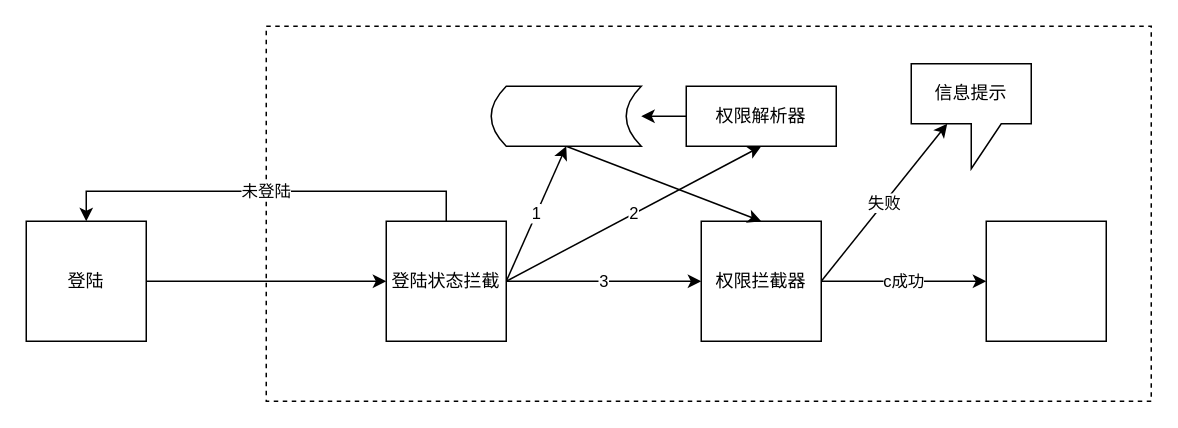
The diagram is 1178 pixels wide and 428 high, and some of its shapes have lost their labels. Each missing label, with the box of its shape:
控制器: (985, 220, 1106, 341)
用户session: (490, 85, 641, 146)
